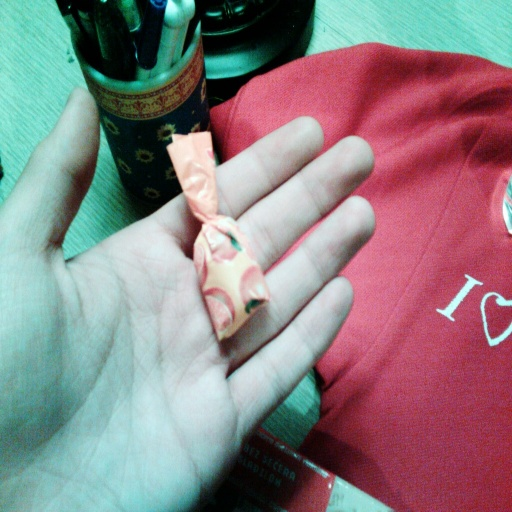hand: (0, 81, 375, 511)
